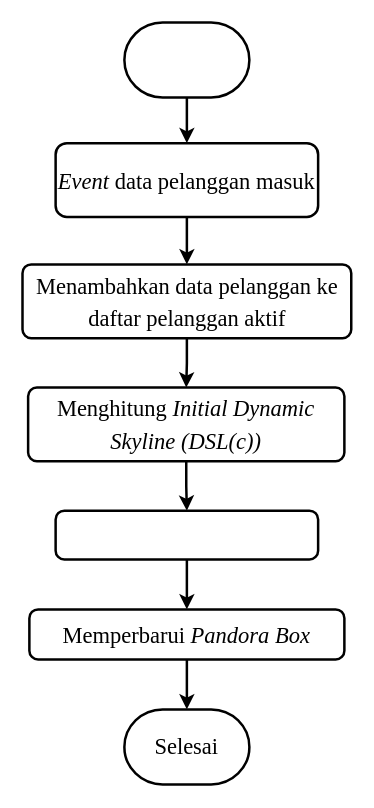
The diagram is 374 pixels wide and 808 high, and some of its shapes have lost their labels. The centre of each missing label's shape, as x and y in pixels:
Menghitung Probabilitas: the point at 186,534
Mulai: the point at 186,59
